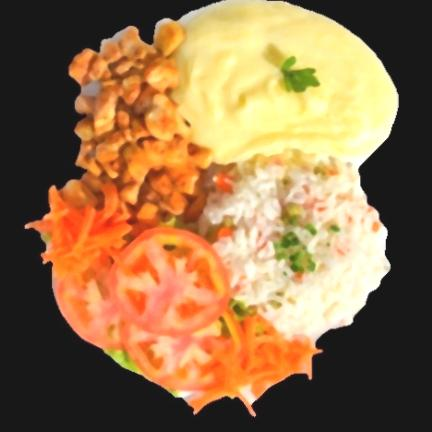carrot: (189, 309, 321, 414), (25, 186, 133, 284)
chicken: (69, 22, 212, 217)
potato: (173, 0, 397, 164)
rice: (198, 153, 390, 337)
tomato: (53, 228, 241, 395)
